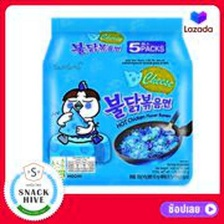snack: (35, 10, 198, 190)
